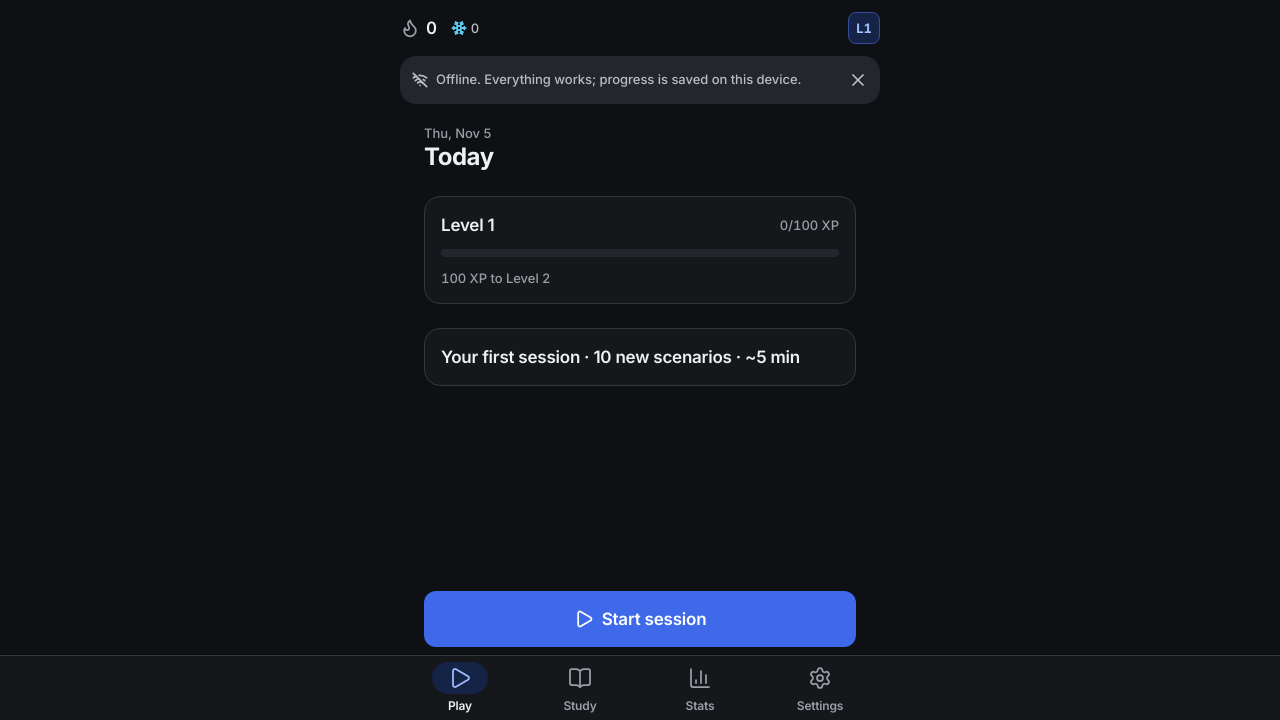
it: AppShell offline indicator › shows on every tab and the app keeps working offline
Click the link "Study": [580, 690] box x1=563 y1=666 x2=597 y2=713
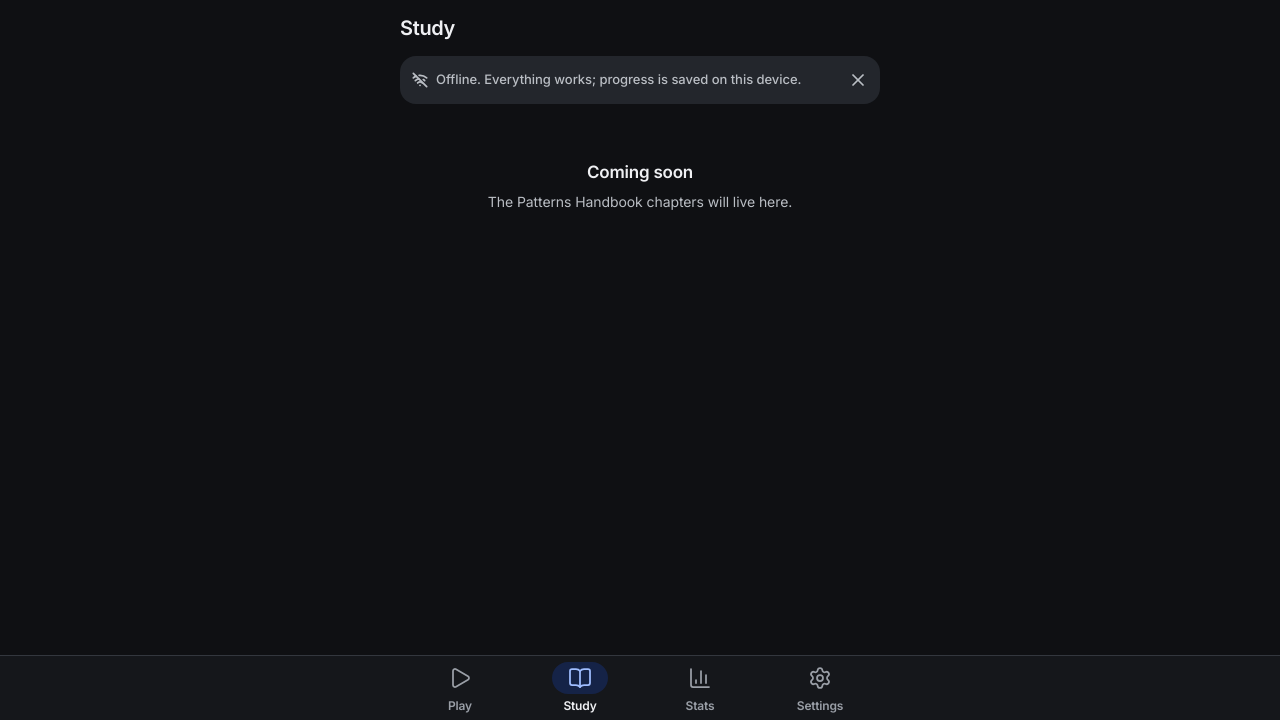
expect the message shows "Offline.": met, box x1=436 y1=71 x2=802 y2=87
Click the link "Stats": [700, 690] box x1=686 y1=666 x2=714 y2=713
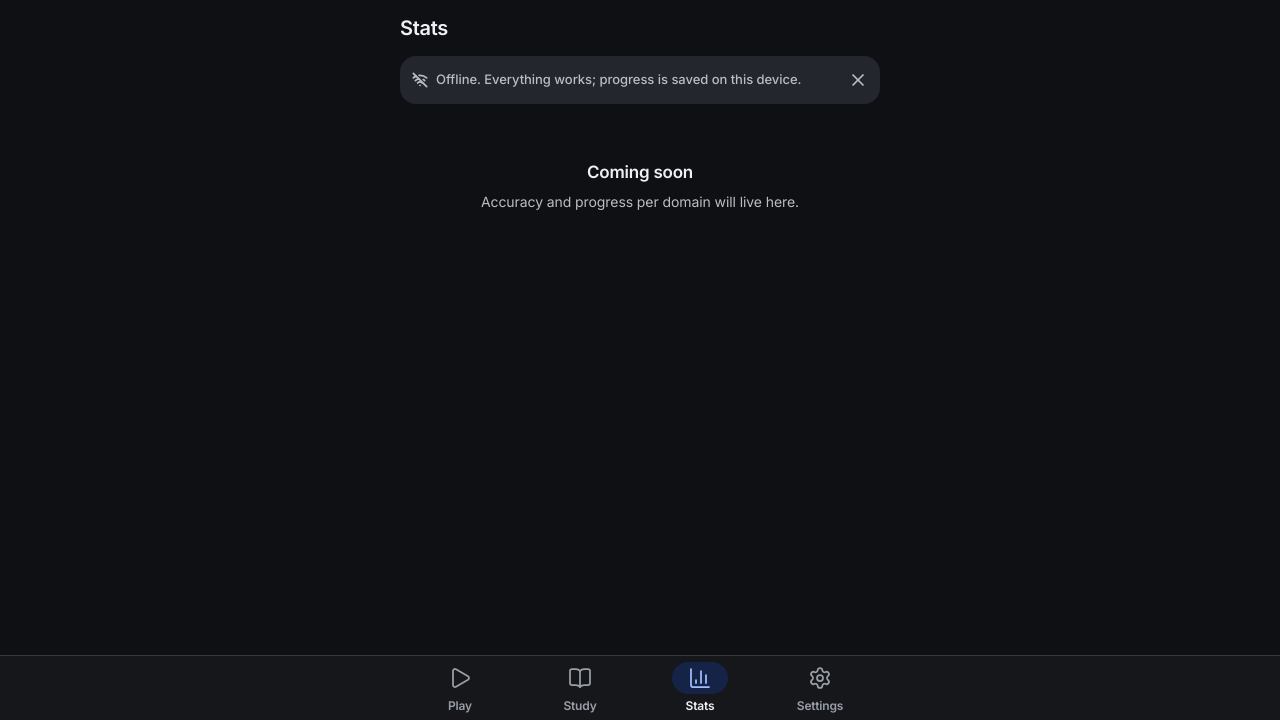
expect the message shows "Offline.": met, box x1=436 y1=71 x2=802 y2=87
Click the link "Settings": [820, 690] box x1=797 y1=666 x2=843 y2=713
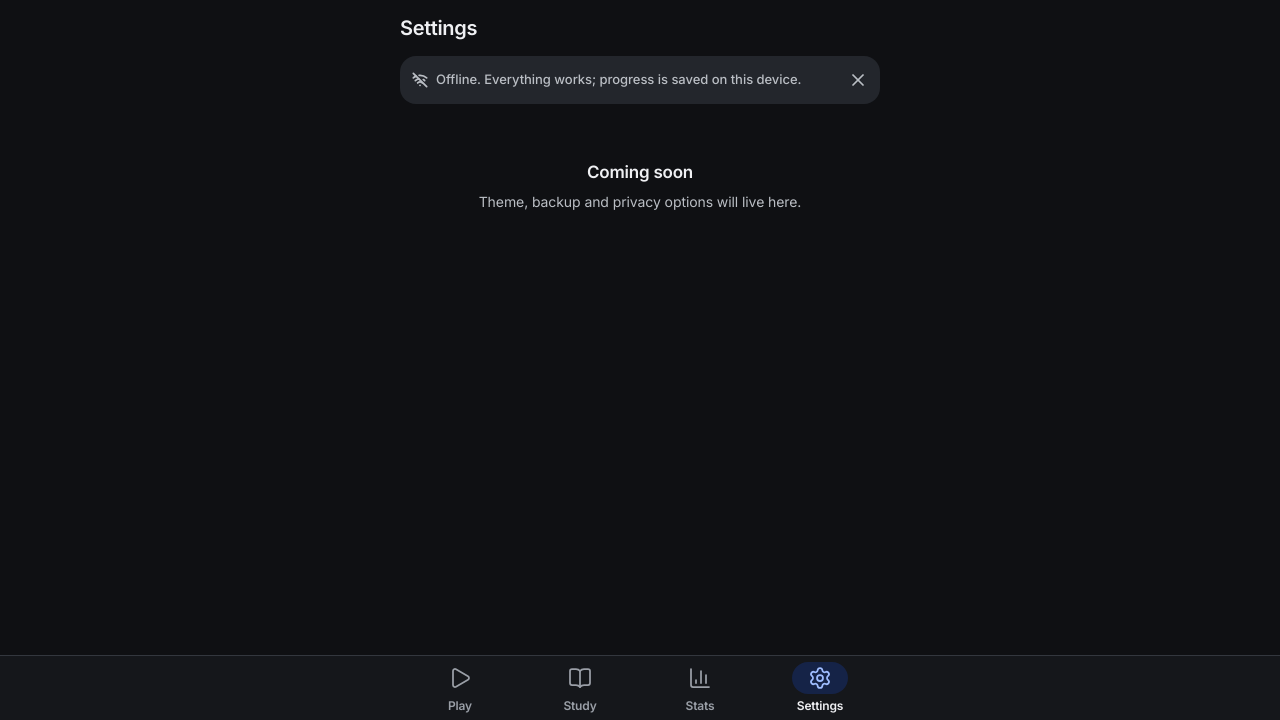
expect the message shows "Offline.": met, box x1=436 y1=71 x2=802 y2=87
Click the link "Play": [460, 690] box x1=448 y1=666 x2=472 y2=713
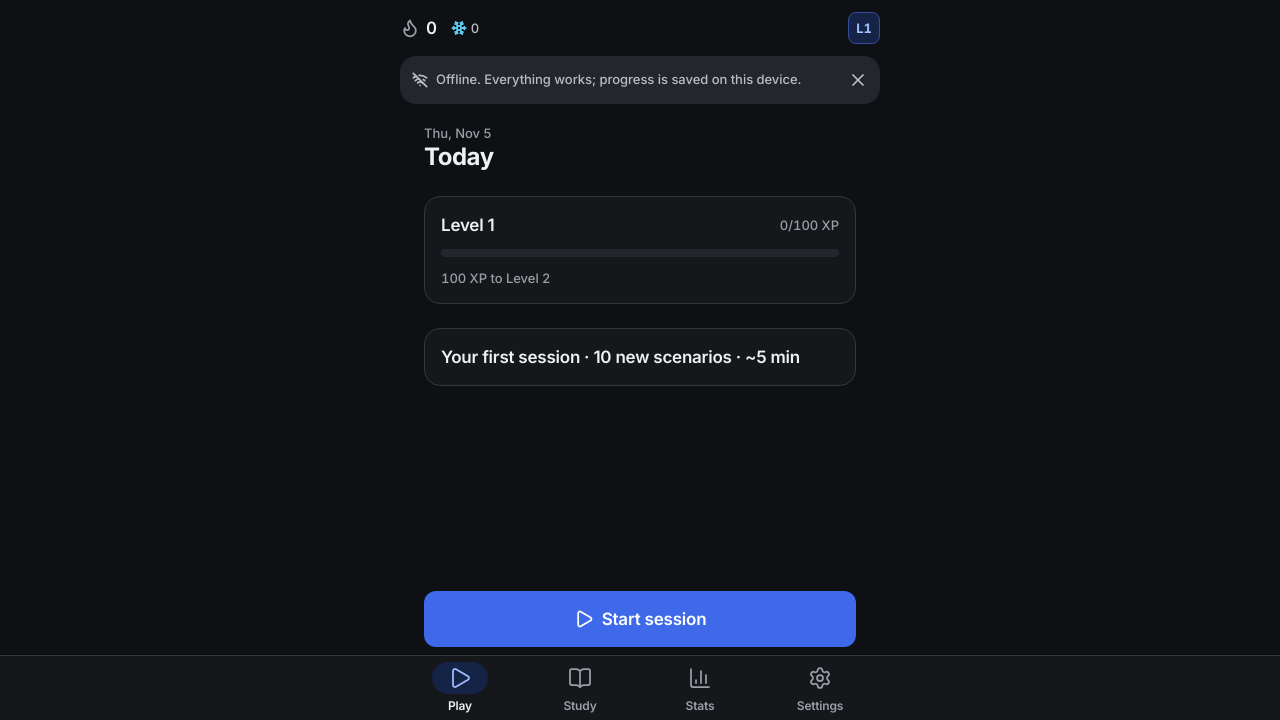
expect the message shows "Offline.": met, box x1=436 y1=71 x2=802 y2=87
expect the button "Start session" is shown: met, box x1=424 y1=591 x2=856 y2=647
